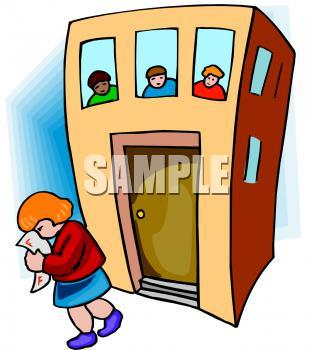person: (13, 190, 125, 349), (82, 70, 120, 106), (193, 62, 225, 101), (140, 65, 177, 97)
